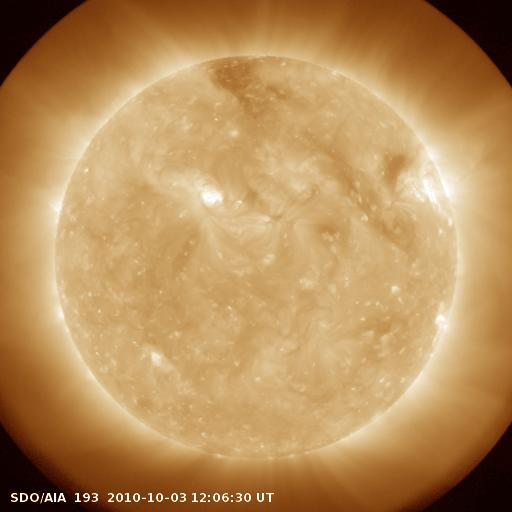coronal_hole: (202, 50, 283, 115), (371, 143, 415, 188)
